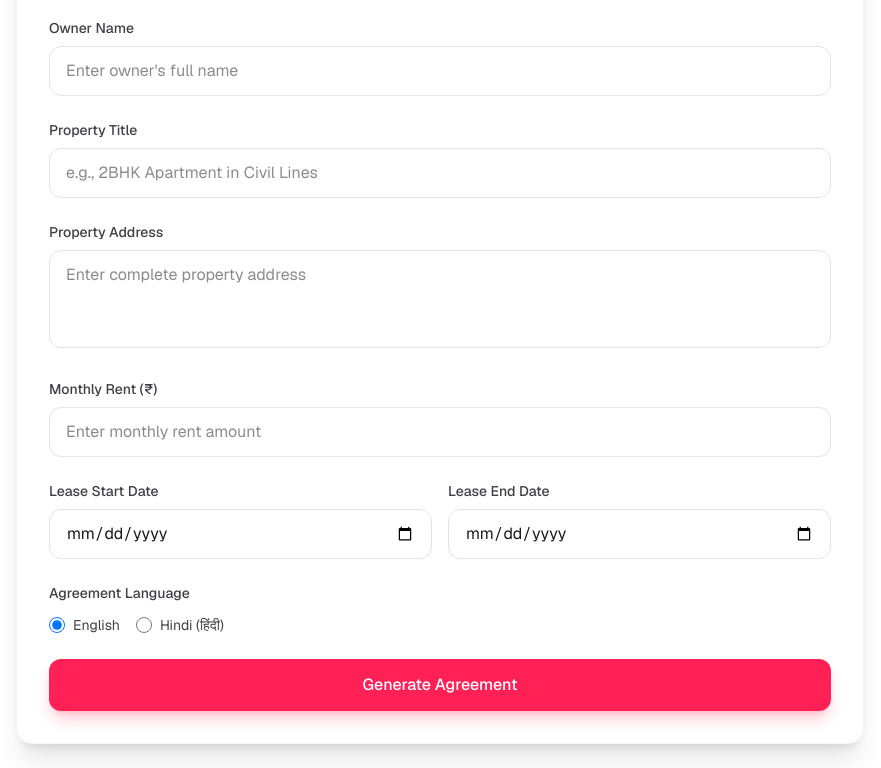
Test: AgreementGeneratorForm Component › Form Validation › should show validation errors for empty required fields
(page scrolled)
Step 1. Click the button "Generate Agreement" → (440, 685), box [49, 659, 831, 711]
(page scrolled)
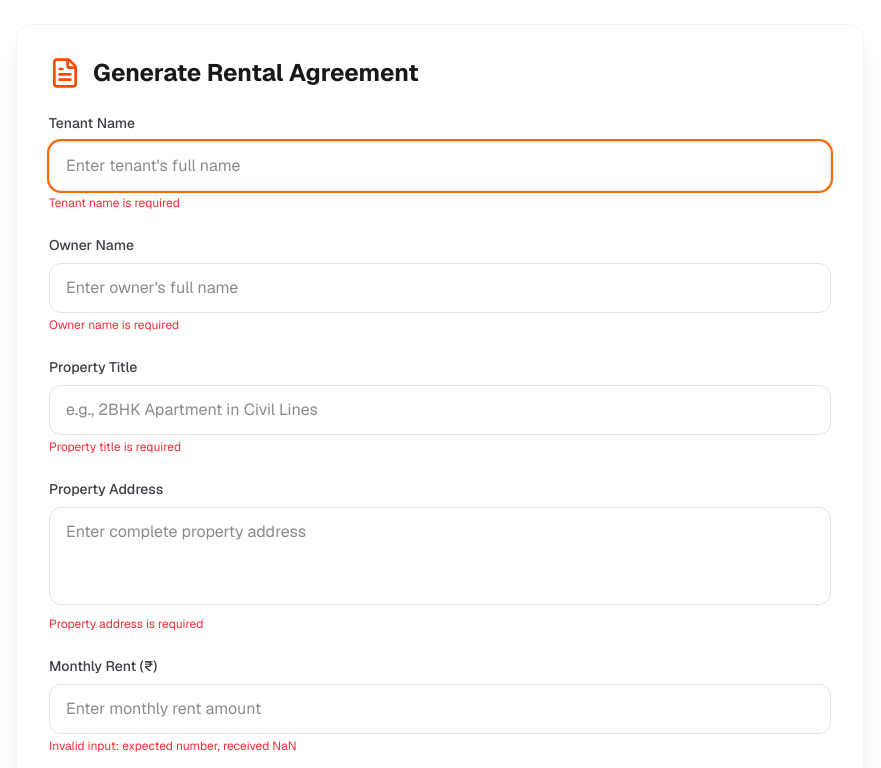
Now the text "Tenant name is required" is shown, box [49, 195, 180, 211]
